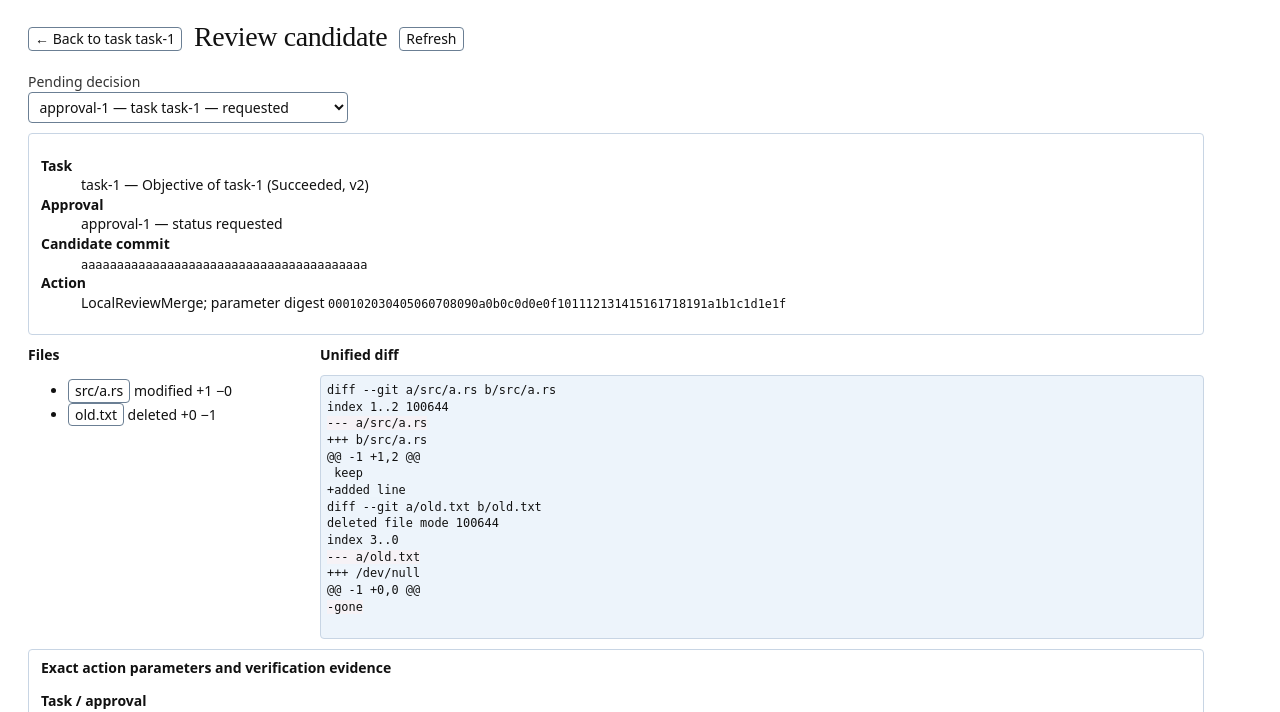
S6 identity, diff and navigation › requests a scoped diff with path and workspace_id for the selected file
The image size is (1280, 712).
What coordinates should you click on to do the following:
click the button "src/a.rs"
I would click on:
 (99, 391)
Its box is [68,379,130,403].
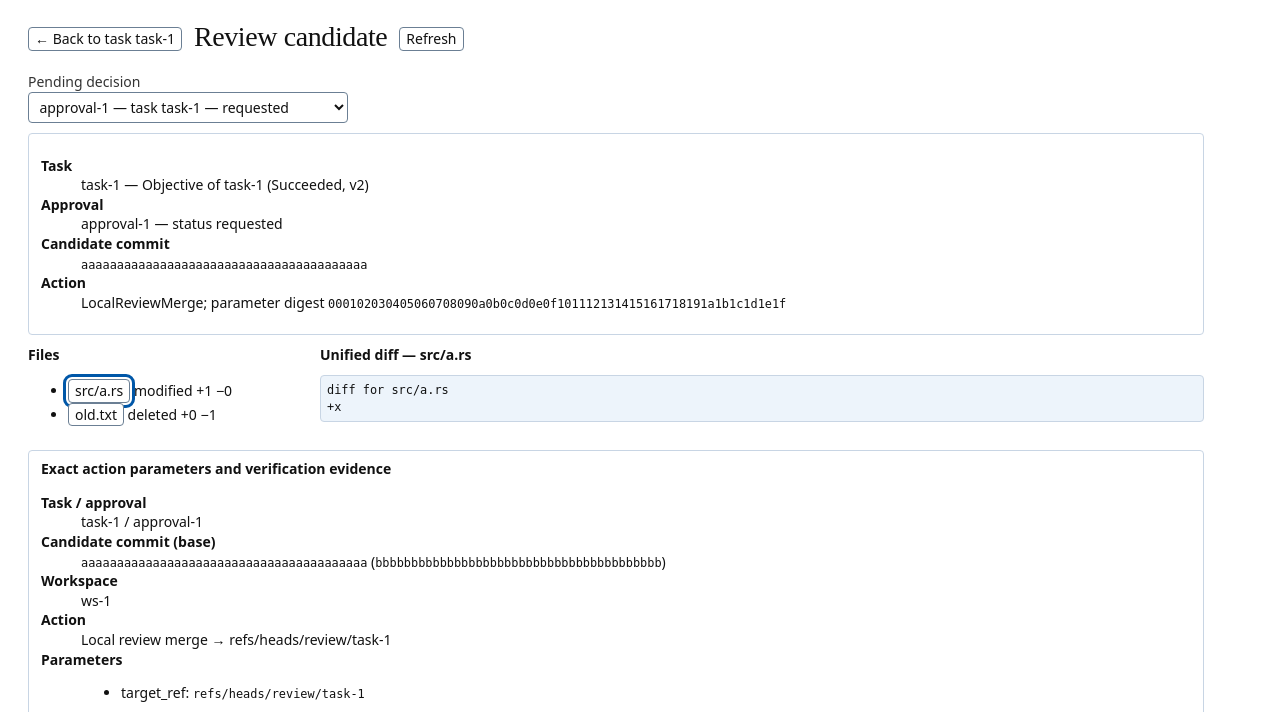
Now the element named "Diff content" shows "diff for src/a.rs", box [327,383,449,397]
